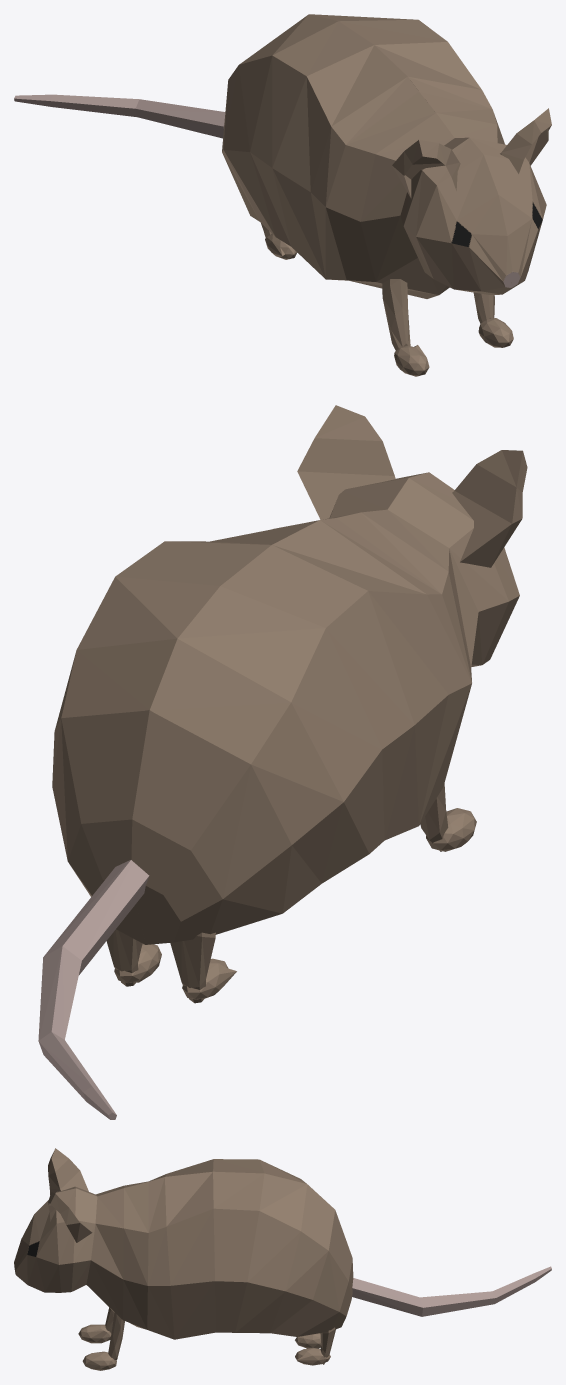
Rendered from mouse.obj.
The picture shows the model from 3 angles, top to bottom: view 1: azimuth 30°, elevation 25°; view 2: azimuth 150°, elevation 25°; view 3: azimuth 270°, elevation 25°; orthographic projection. The views are drawn at different scales.
Parts seen in each view (by area): view 1: Mouse; view 2: Mouse; view 3: Mouse.
Part boxes in pixels (x1,y1,x2,y2): Mouse: [14, 14, 551, 376]; Mouse: [38, 405, 527, 1119]; Mouse: [14, 1148, 551, 1370].
Size of the model in its own units: 2.01 by 2.11 by 5.51.
1 material, 1 textured.
